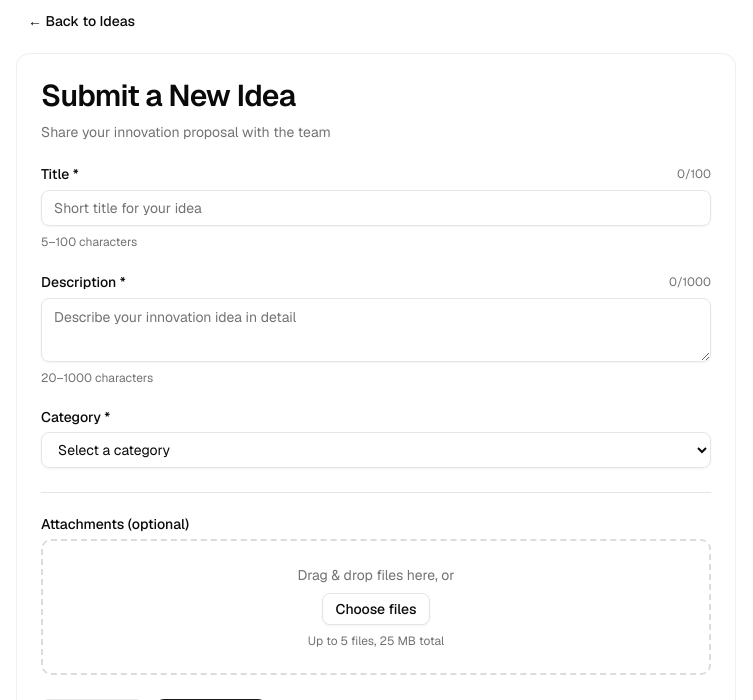
Test: NewIdeaPage dynamic category form › shows category-specific fields when category is selected
The width and height of the screenshot is (753, 700).
Select "Cost Reduction" in the dropdown labelled "Category *" at (376, 450), box [41,432,711,468]
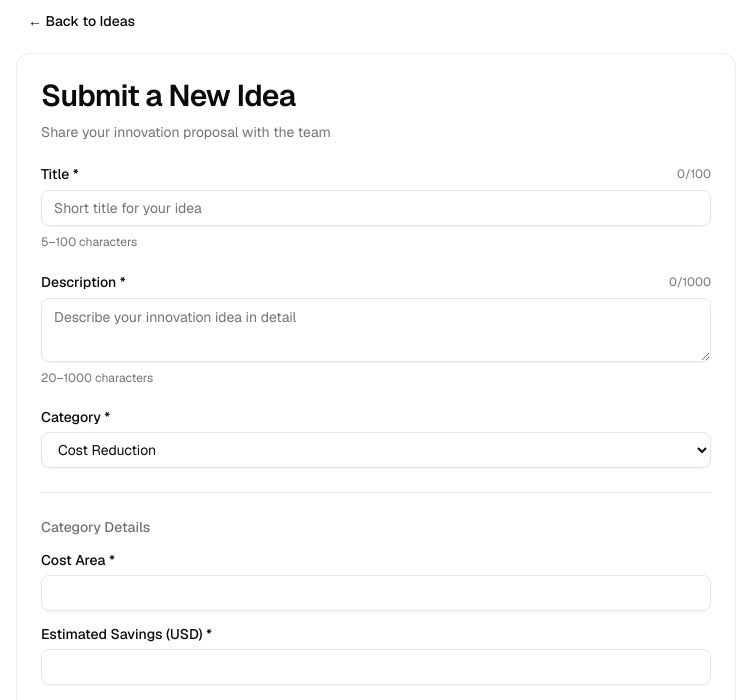
Expected: the field labelled "Cost Area *" is shown, [41,575,711,611]
Expected: the number field labelled "Estimated Savings (USD) *" is shown, [41,649,711,685]
